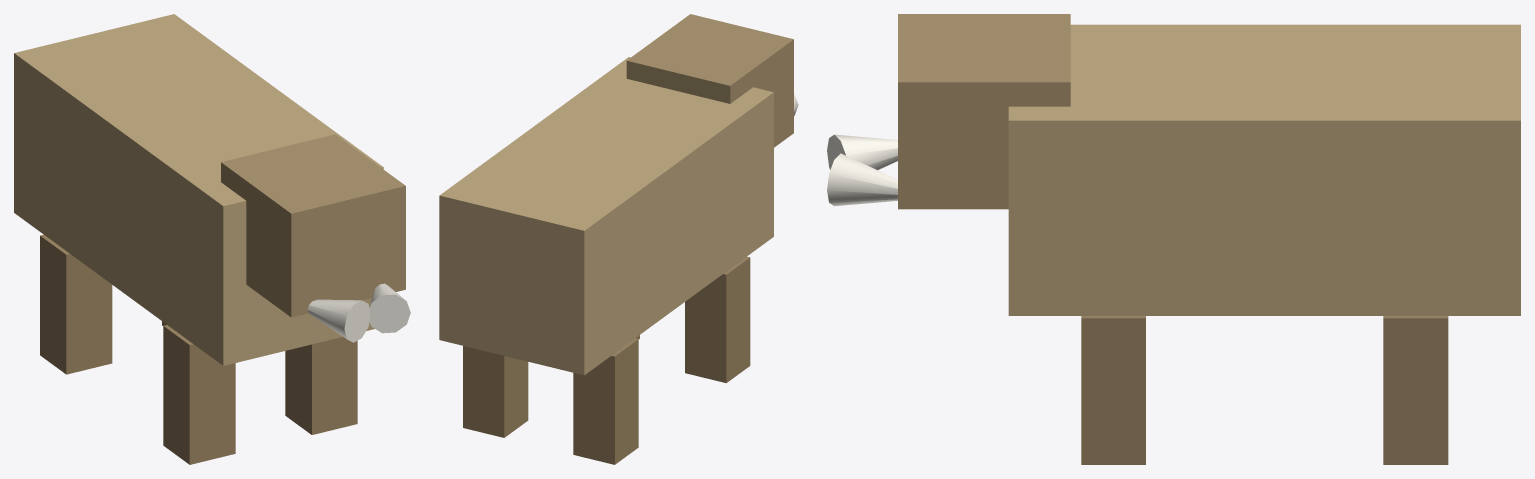
The model's file is boar.glb.
The picture shows the model from 3 angles, left to right: view 1: azimuth 30°, elevation 25°; view 2: azimuth 150°, elevation 25°; view 3: azimuth 270°, elevation 25°; orthographic projection. The views are drawn at different scales.
Parts seen in each view (by area): view 1: npc; view 2: npc; view 3: npc.
Boxes of the visible parts, box(x1,y1,x2,y2) form: npc: box(14, 14, 410, 464); npc: box(439, 14, 798, 464); npc: box(827, 14, 1520, 464).
Size of the model in its own units: 0.44 by 0.75 by 1.29.
